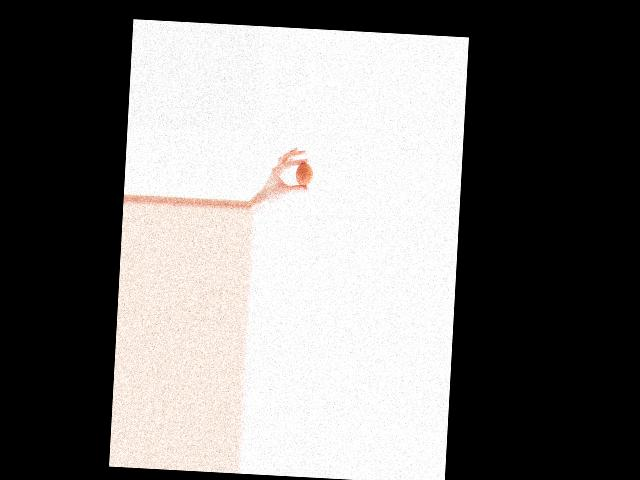egg: (295, 162, 314, 186)
